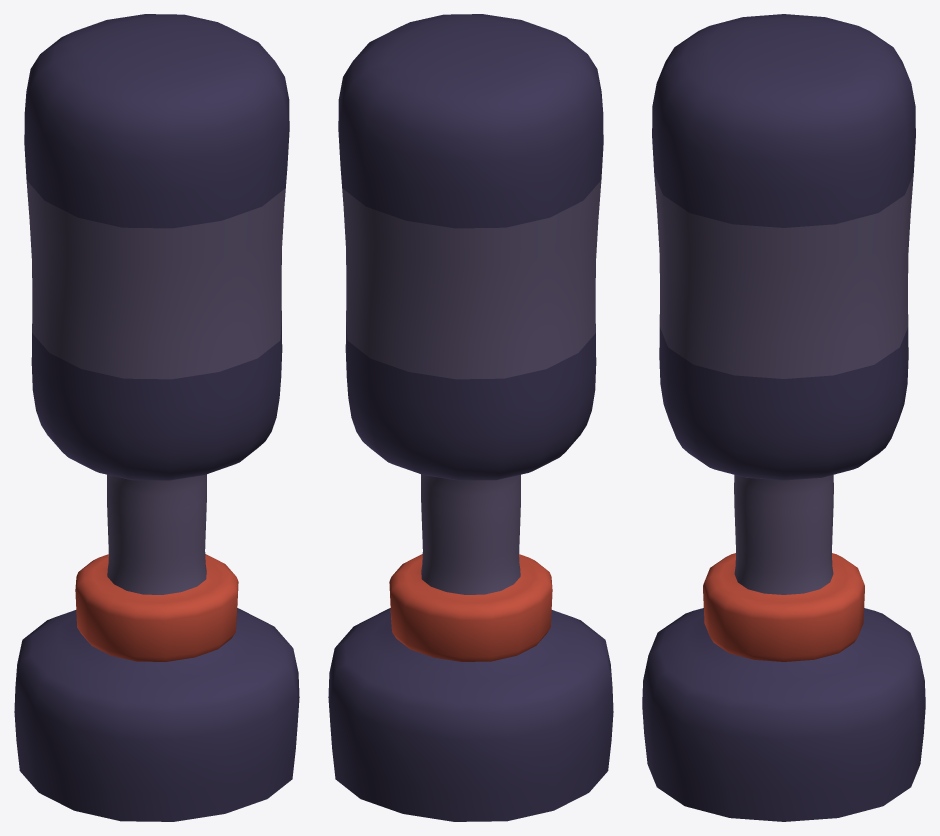
File: boxing_mannequin-1.fbx
3 views of the same model, side by side, from view 1: azimuth 30°, elevation 25°; view 2: azimuth 150°, elevation 25°; view 3: azimuth 270°, elevation 25° (orthographic).
Visible parts, largest first — view 1: boxing mannequin-1; view 2: boxing mannequin-1; view 3: boxing mannequin-1.
Part boxes in pixels (x1,y1,x2,y2): boxing mannequin-1: [14, 14, 299, 821]; boxing mannequin-1: [328, 14, 613, 821]; boxing mannequin-1: [642, 14, 925, 821].
Bounding box in the file's own units: 0.3466 × 0.9694 × 0.3466.
